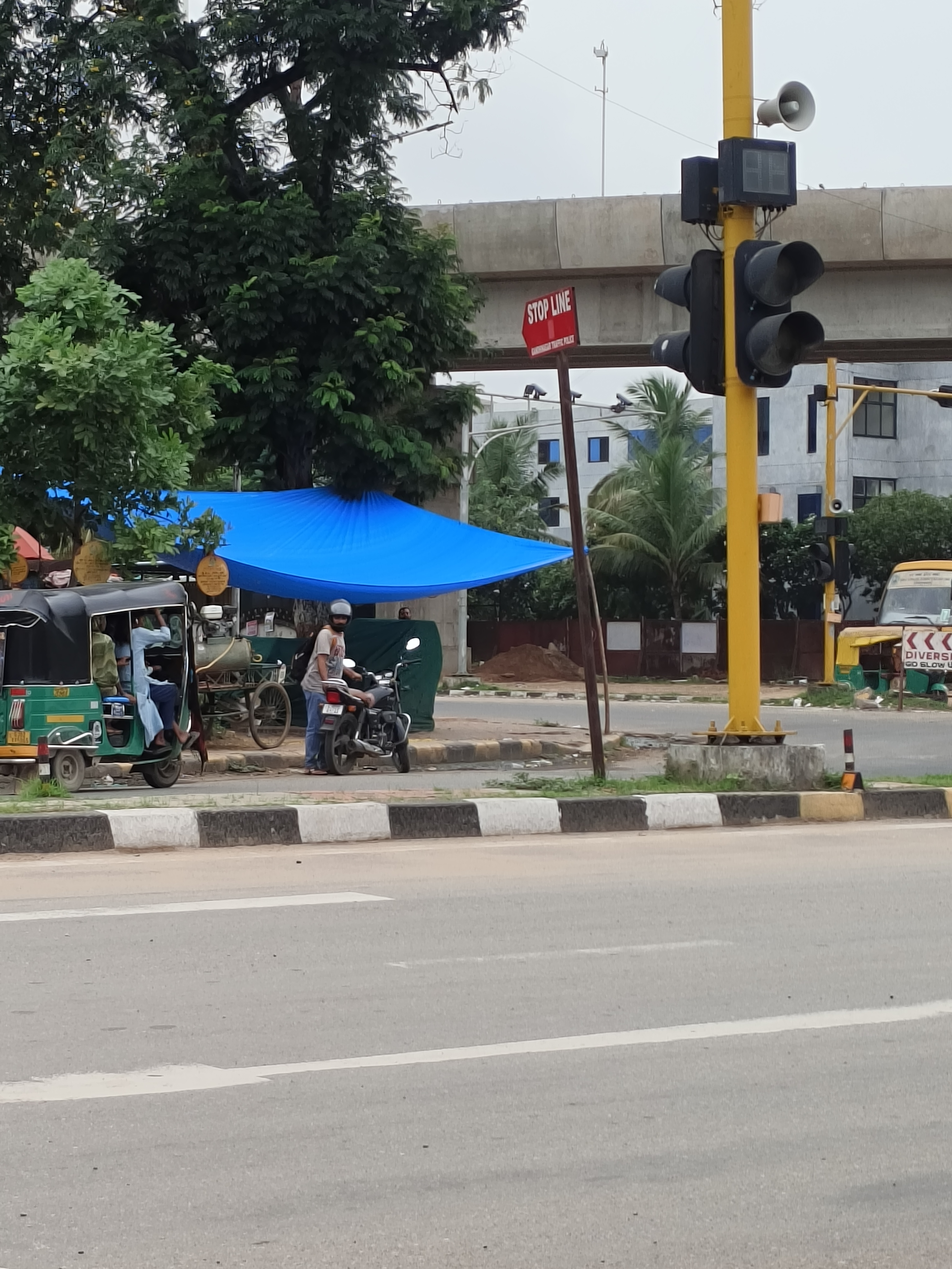BikeWithRider: (292, 592, 425, 782)
Helmet: (324, 595, 357, 631)
